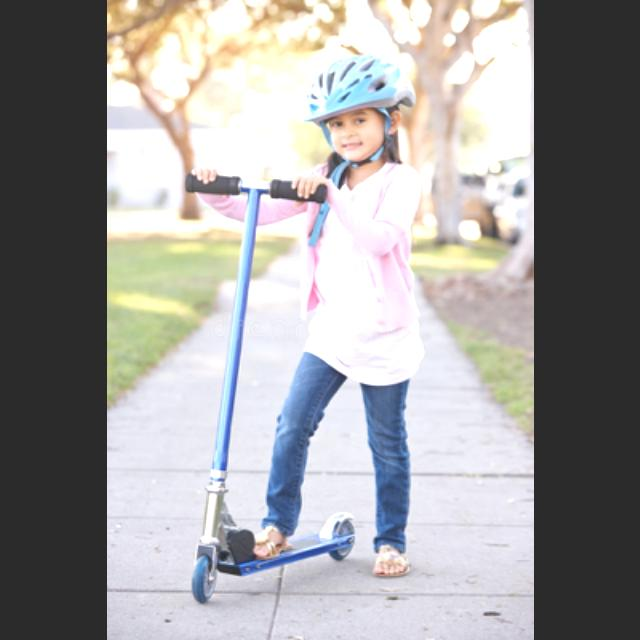With Helmet: (298, 52, 420, 170)
